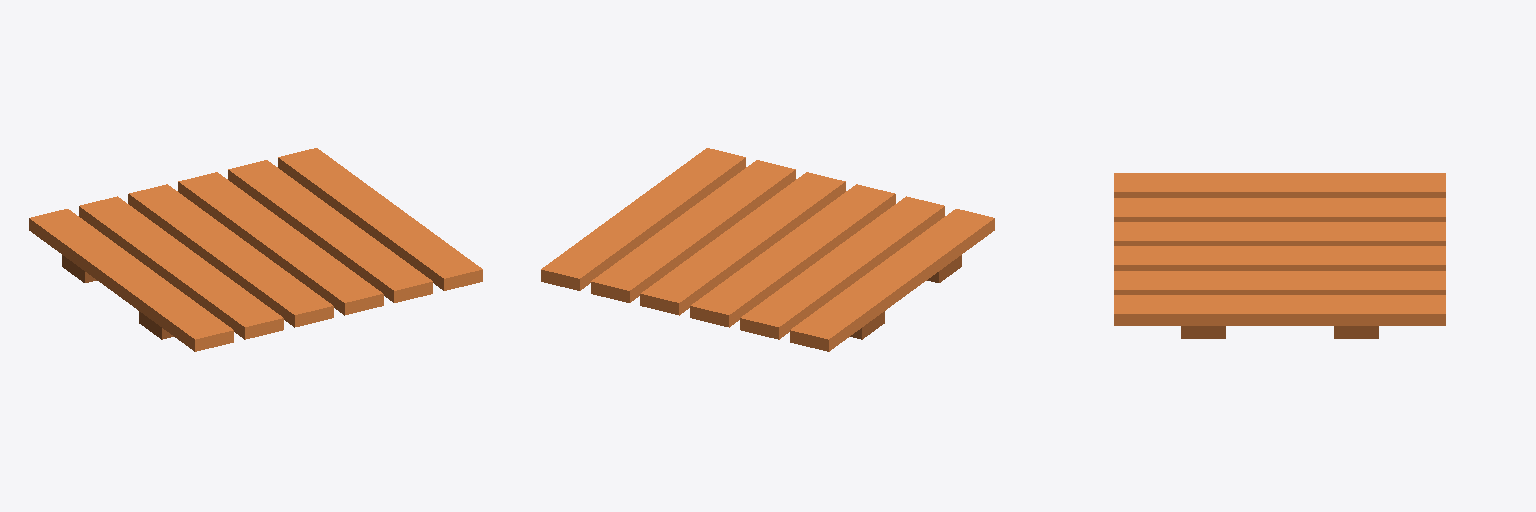
Rendered from floor.obj.
The picture shows the model from 3 angles: view 1: azimuth 30°, elevation 25°; view 2: azimuth 150°, elevation 25°; view 3: azimuth 270°, elevation 25°; orthographic projection.
Visible parts, largest first — view 1: floor; view 2: floor; view 3: floor.
Part boxes in pixels (bbox=[...]): floor: bbox=[29, 148, 482, 351]; floor: bbox=[541, 148, 994, 351]; floor: bbox=[1114, 173, 1445, 338].
Bounding box in the file's own units: 0.4893 × 0.04 × 0.4893.